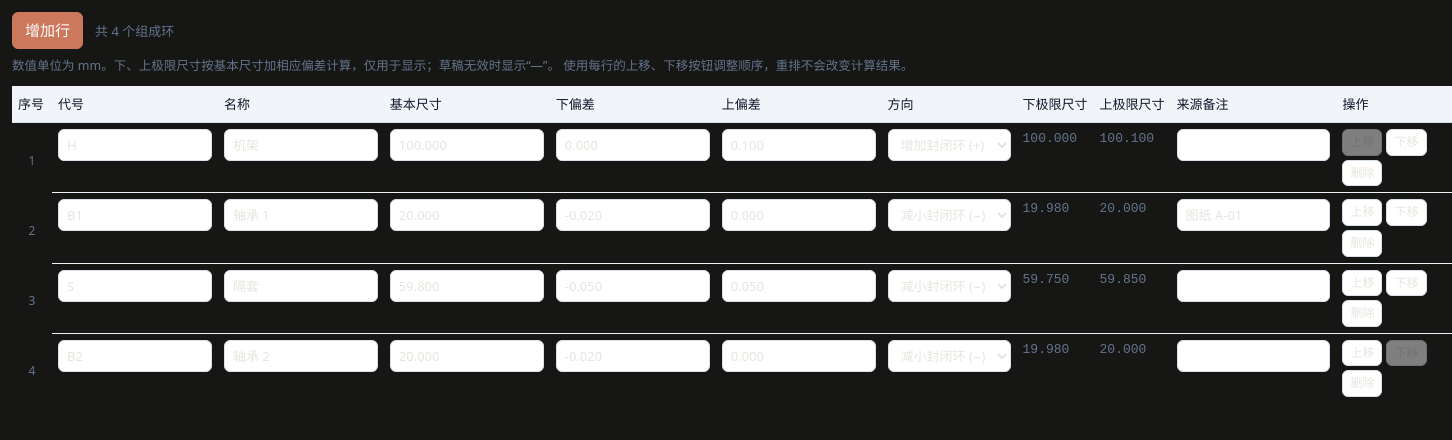
Test case: DimensionTable：可选行选中联动 › 点击行首选择按钮或行内非按钮区域都会回传并标记选中行
Click the button named "选择 B1".
click(32, 231)  # box [18,217,46,245]
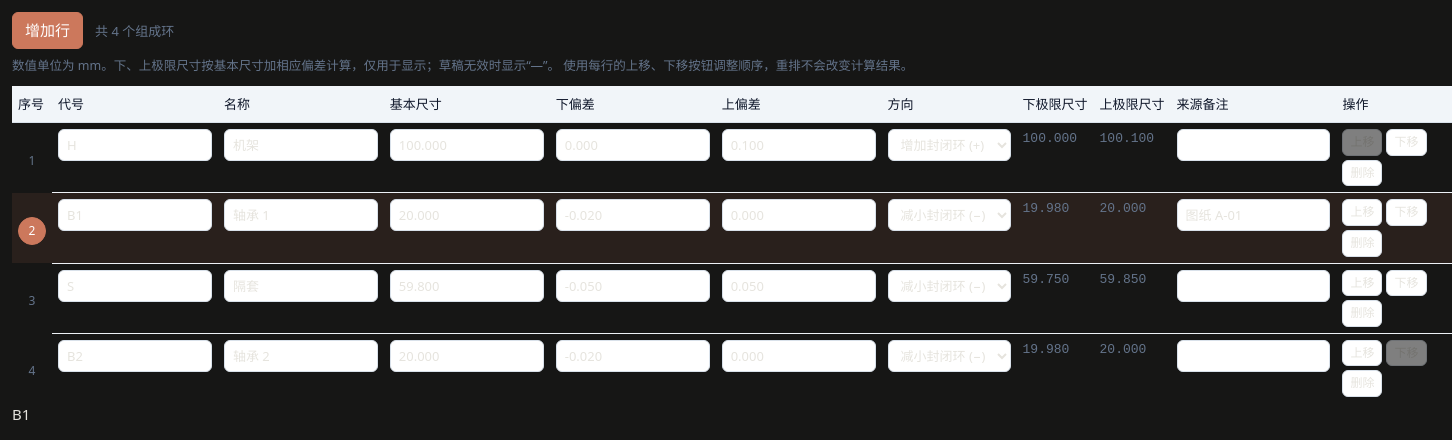
Expected: the text with test id "selected-term" reads "B1", [12,404,30,424]
Click the cell named "H 上极限尺寸".
click(1132, 158)  # box [1094,123,1170,193]
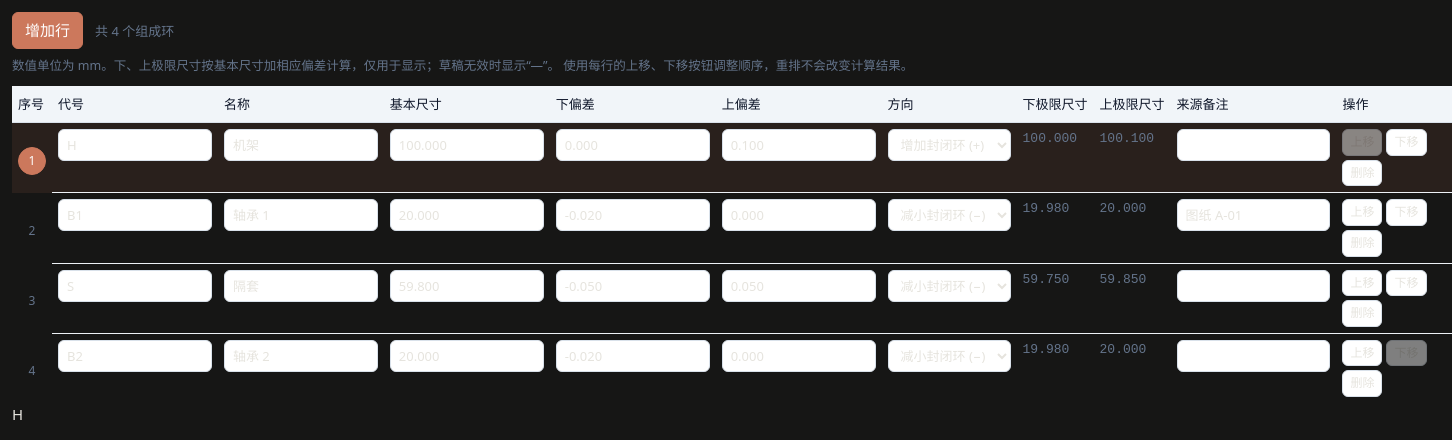
Expected: the text with test id "selected-term" reads "H", [12,404,23,424]
